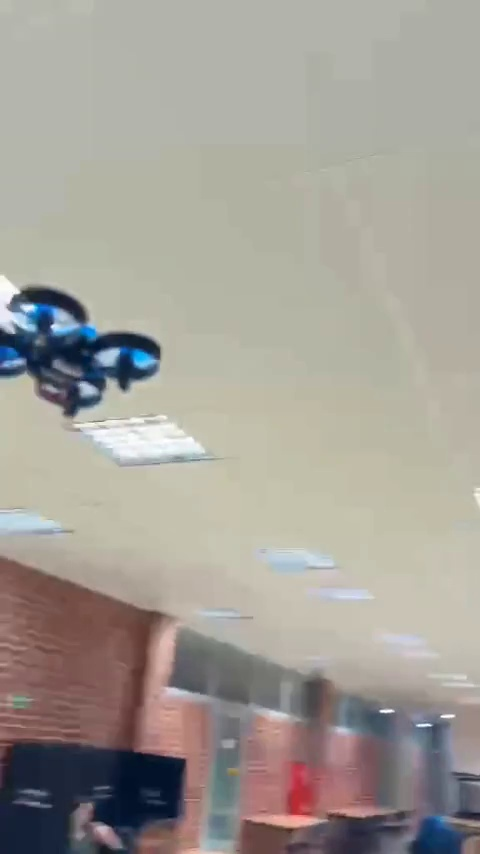drone: (0, 269, 161, 415)
